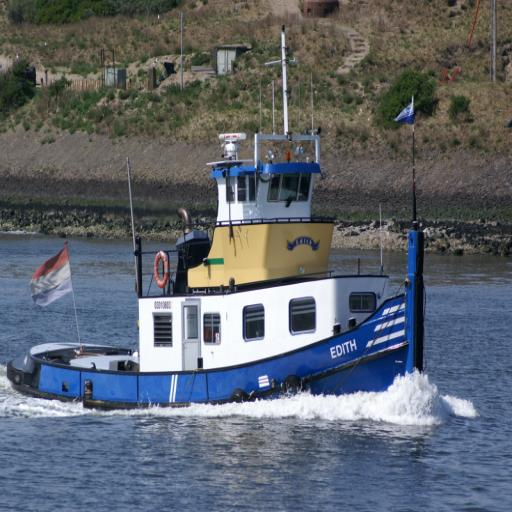tugboat: (9, 128, 431, 425)
